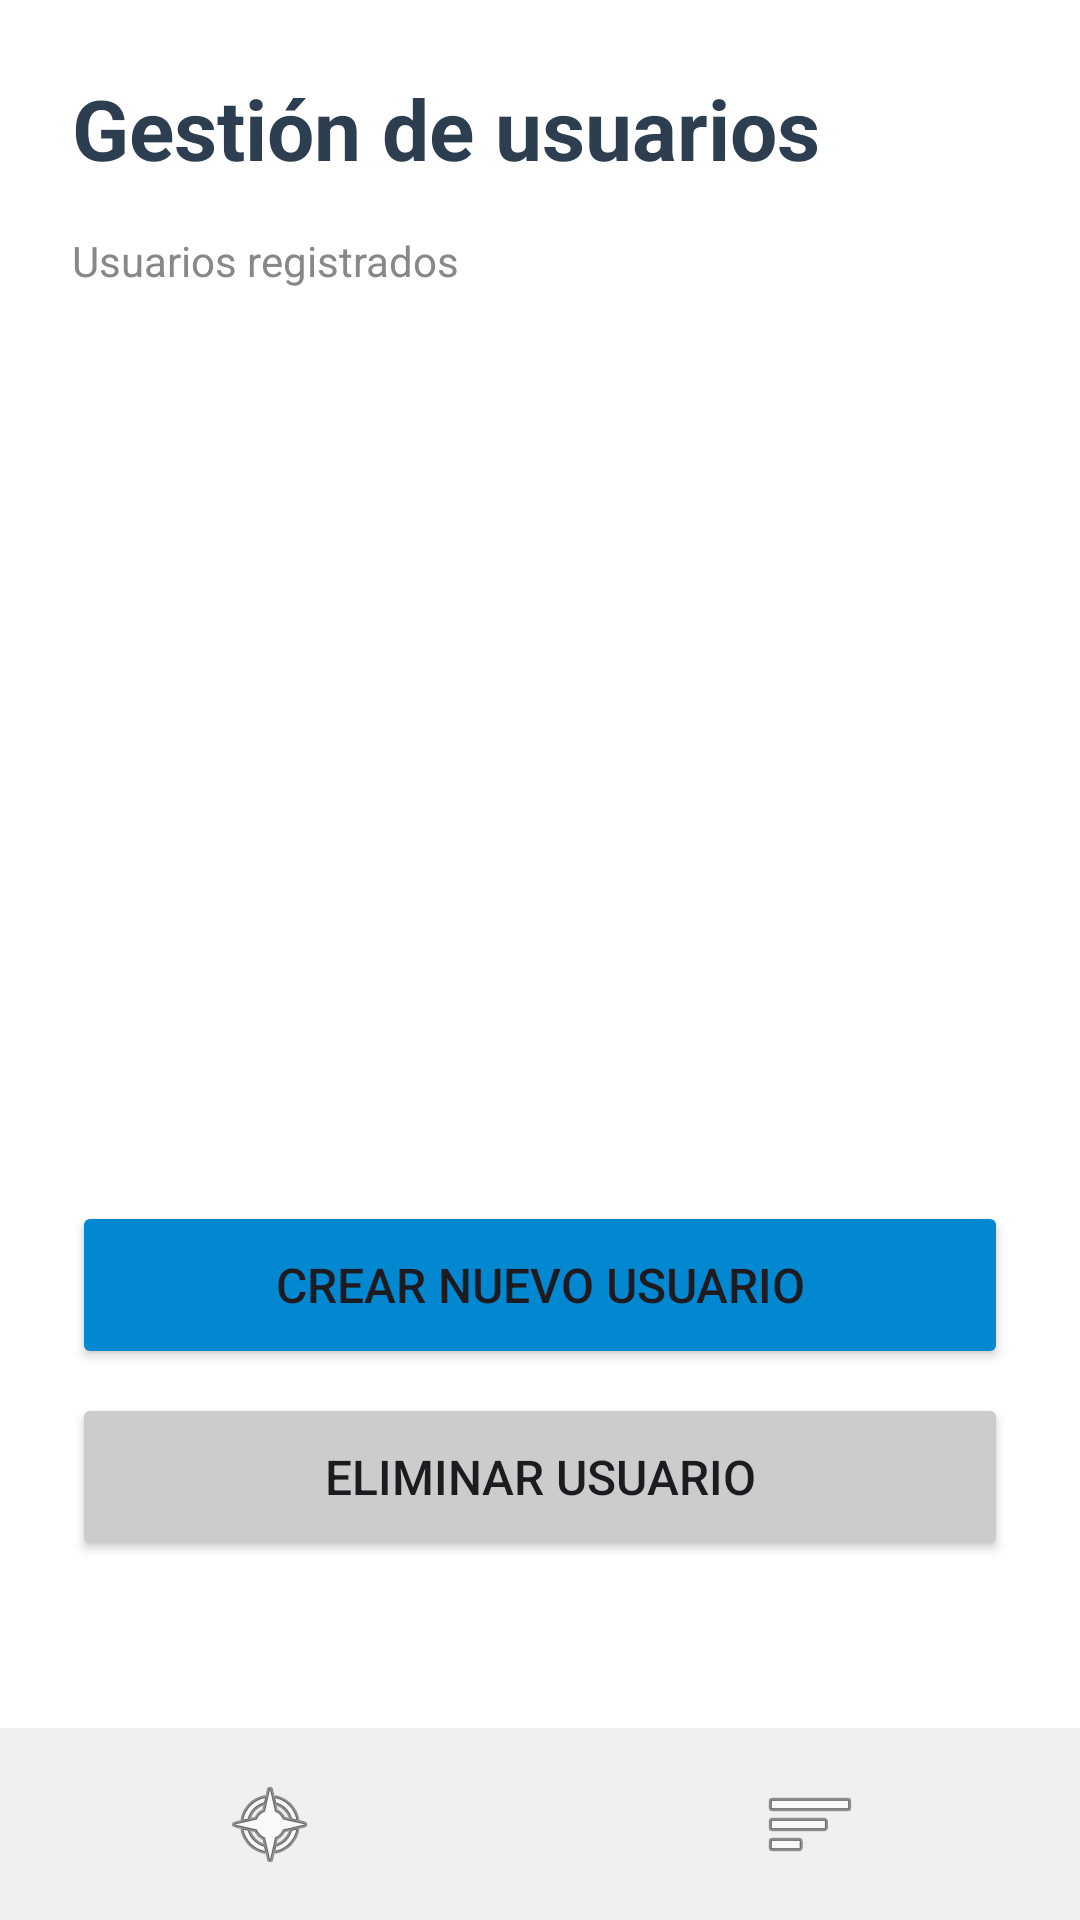

Point at icon controls on the screen. Image size 1080w x 1920h, points as [x,y].
Ir a informes: [810,1824]
